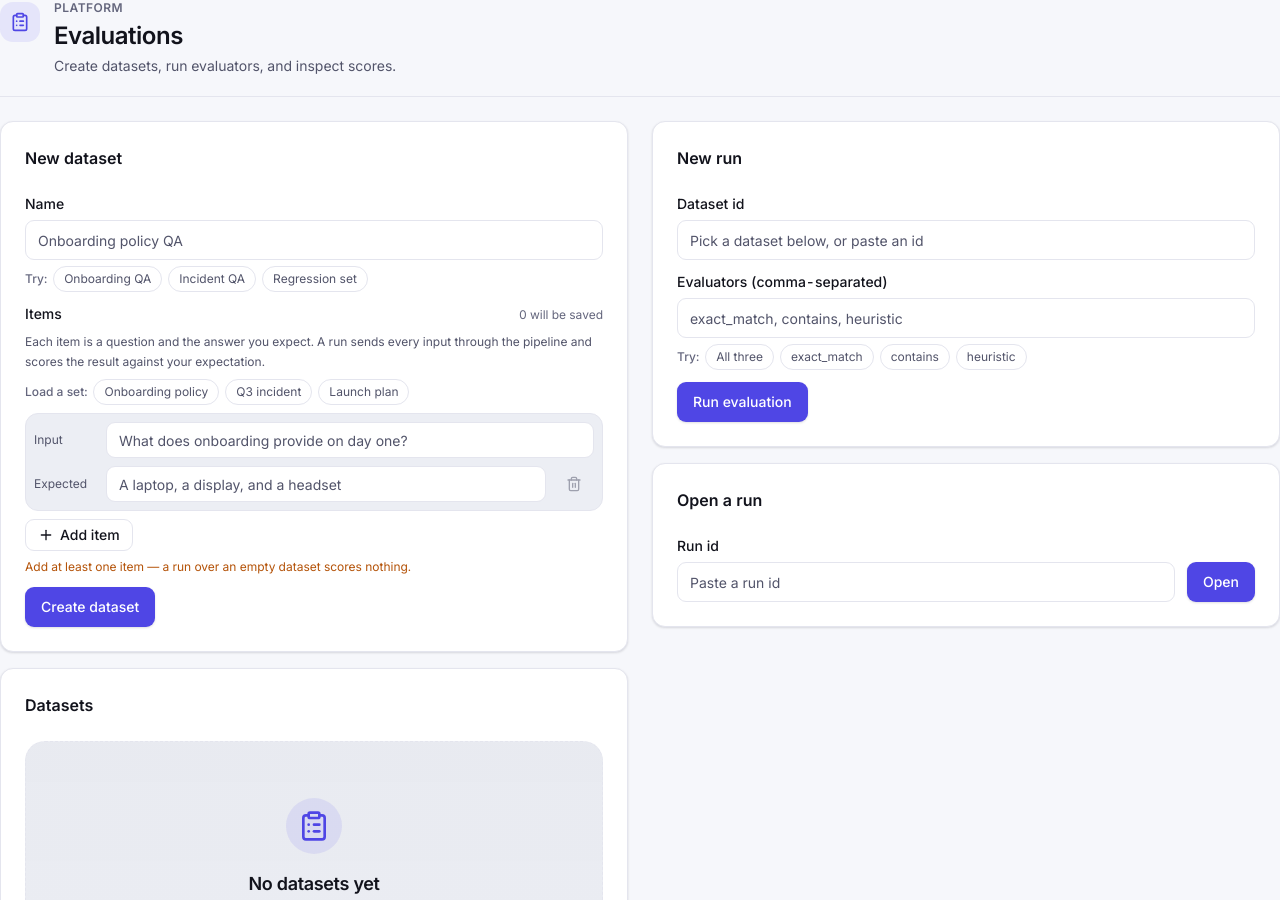
Scenario: EvaluationsView (MSW) › opens a persisted run showing aggregate + per-item scores (14.4)
Type "run-9" into the field with test id "view-run-id".
click(926, 582); type("run-9")  # box x1=677 y1=562 x2=1175 y2=602
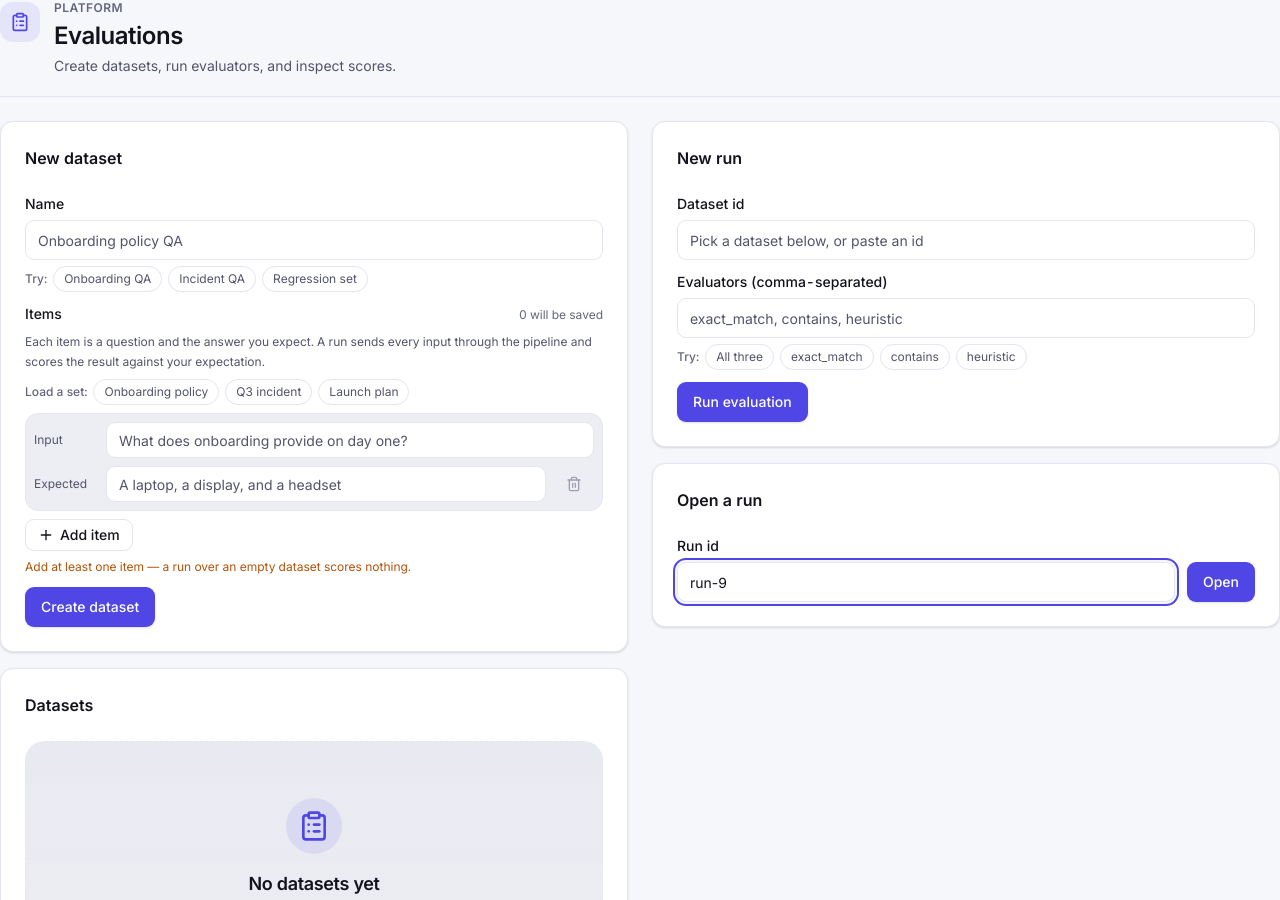
Click the button with test id "open-run-submit".
click(1221, 582)  # box x1=1187 y1=562 x2=1255 y2=602
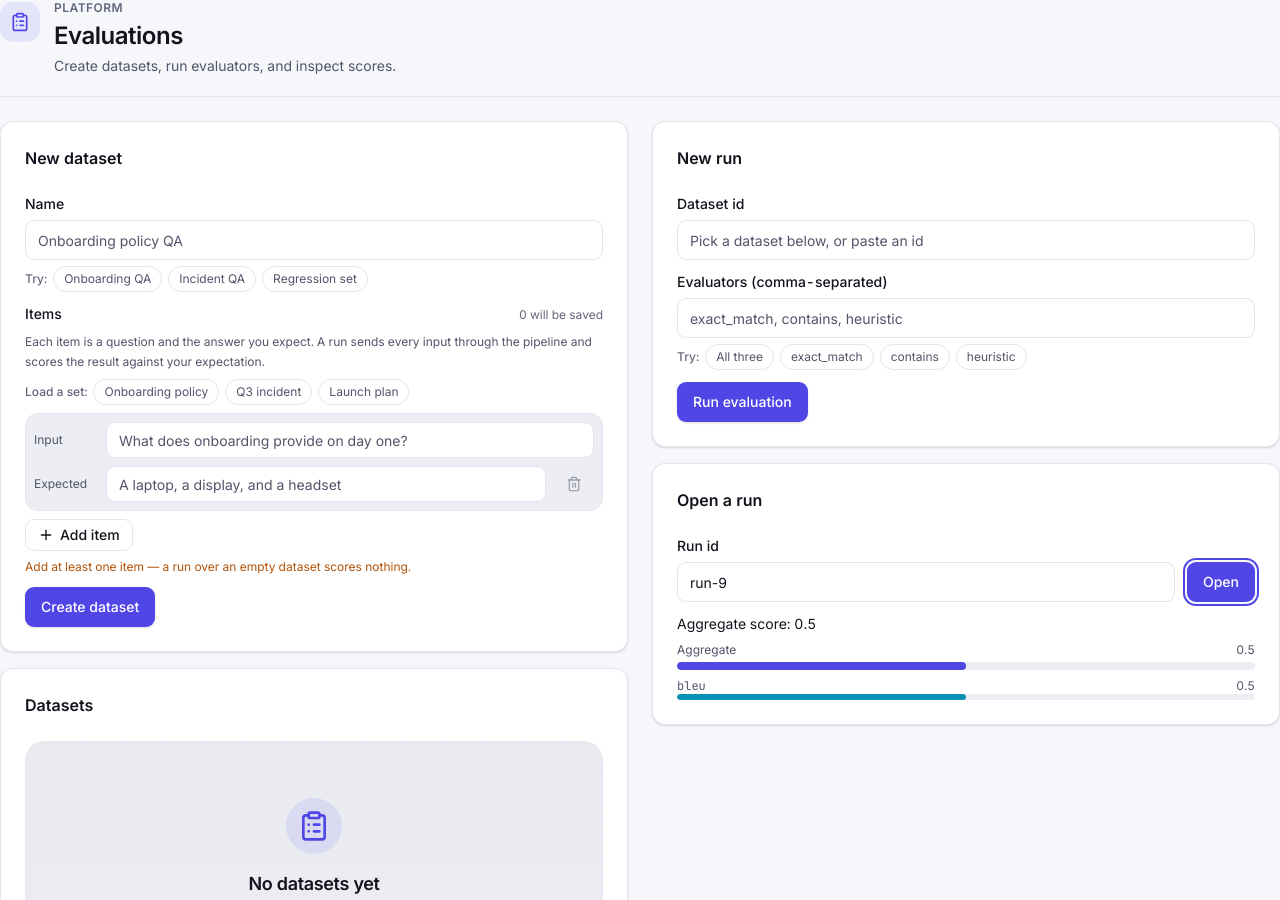
Expected: the element with test id "run-detail" is shown, x1=677 y1=614 x2=1255 y2=700
Expected: the text with test id "run-detail-aggregate" shows "0.5", x1=794 y1=615 x2=816 y2=632
Expected: the text with test id "run-detail-scores-item-score-0" reads "0.5", x1=1236 y1=678 x2=1255 y2=693
